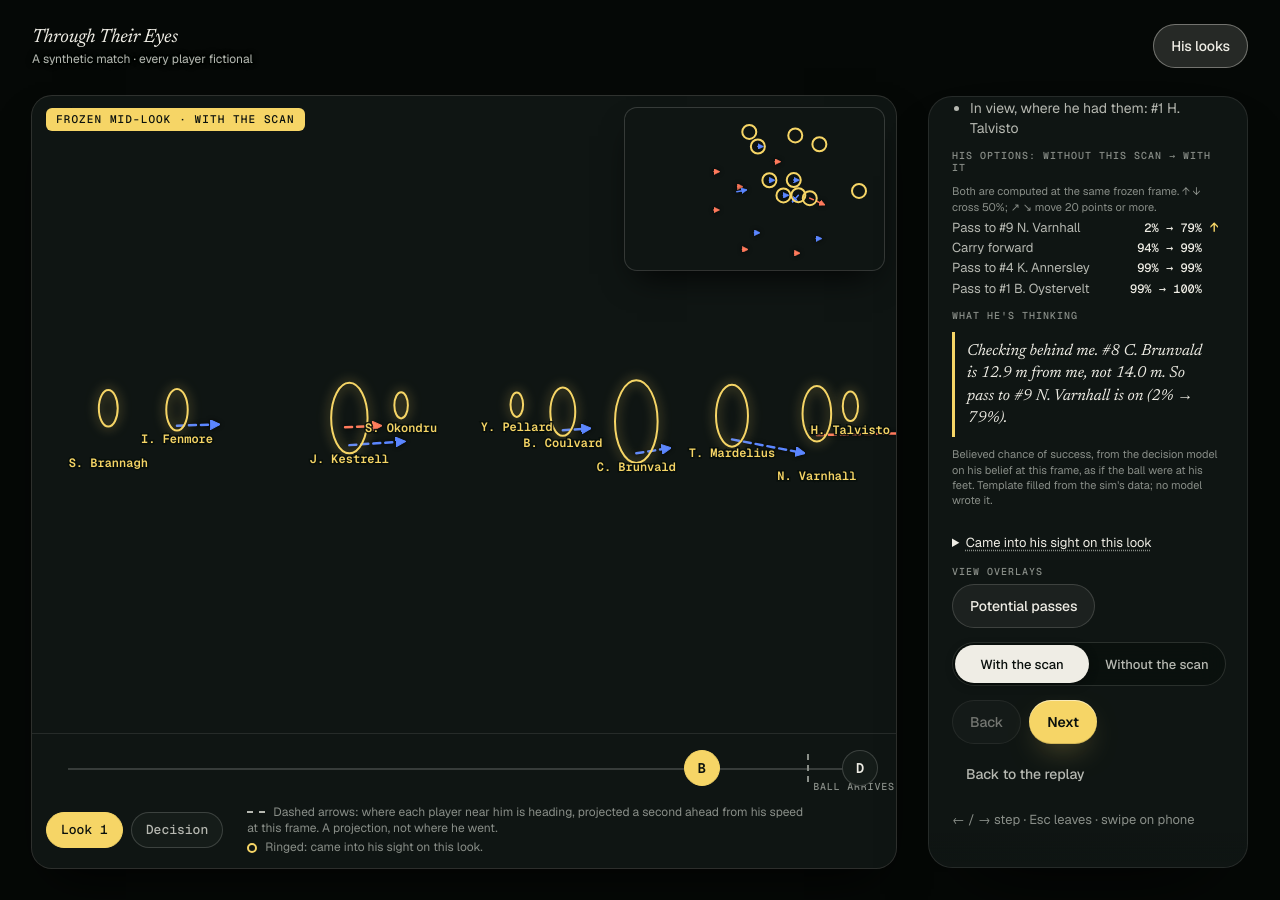
Scenario: His looks: the coaching story › marks the dropped look with a dash in the run without it
This screenshot has width=1280, height=900.
(page scrolled)
Click the button "Without the scan" at (1156, 664), box left=1089, top=645, right=1223, bottom=683
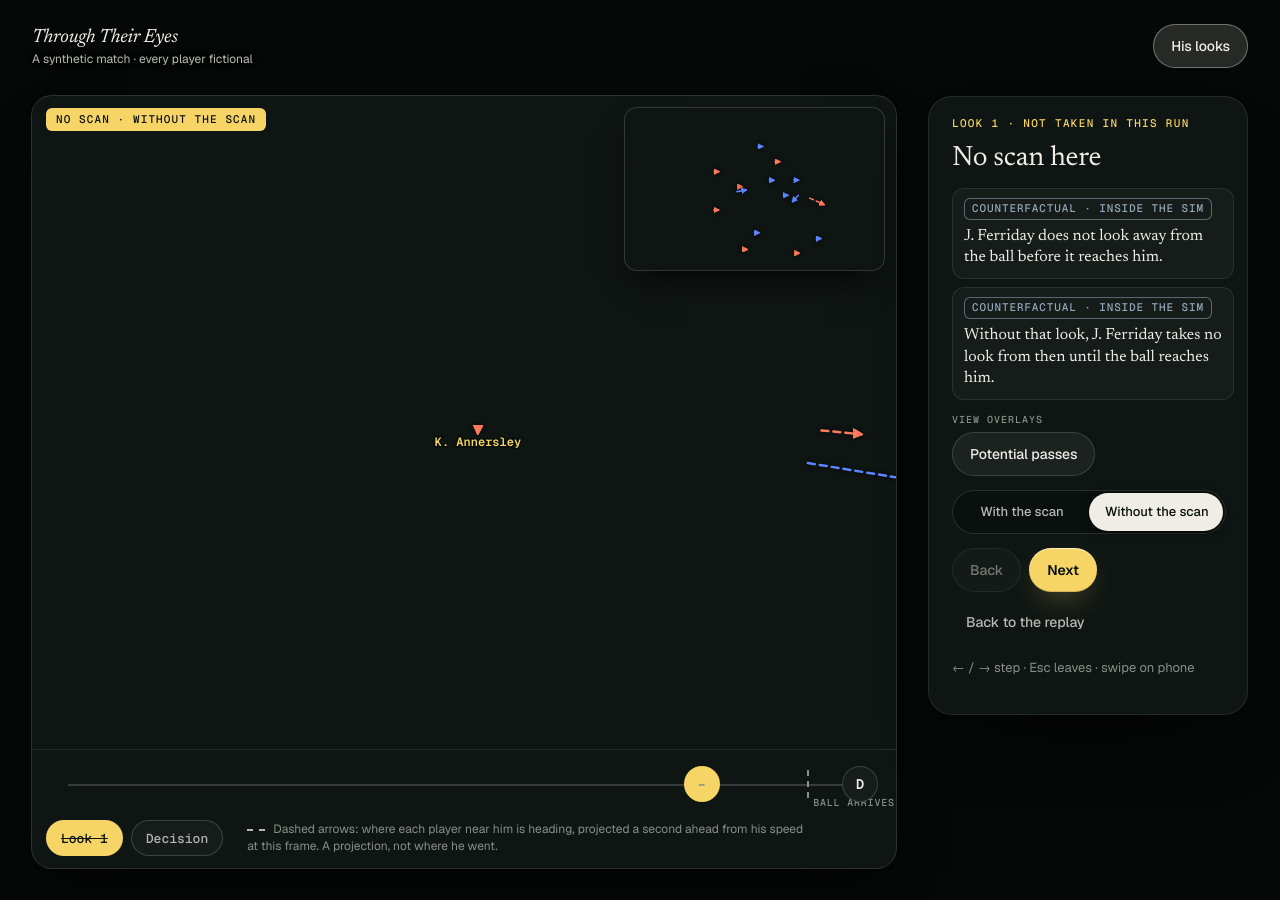
Now the text with class "ss-think" is gone
Click the button "Next" at (1063, 570), box left=1029, top=548, right=1097, bottom=592
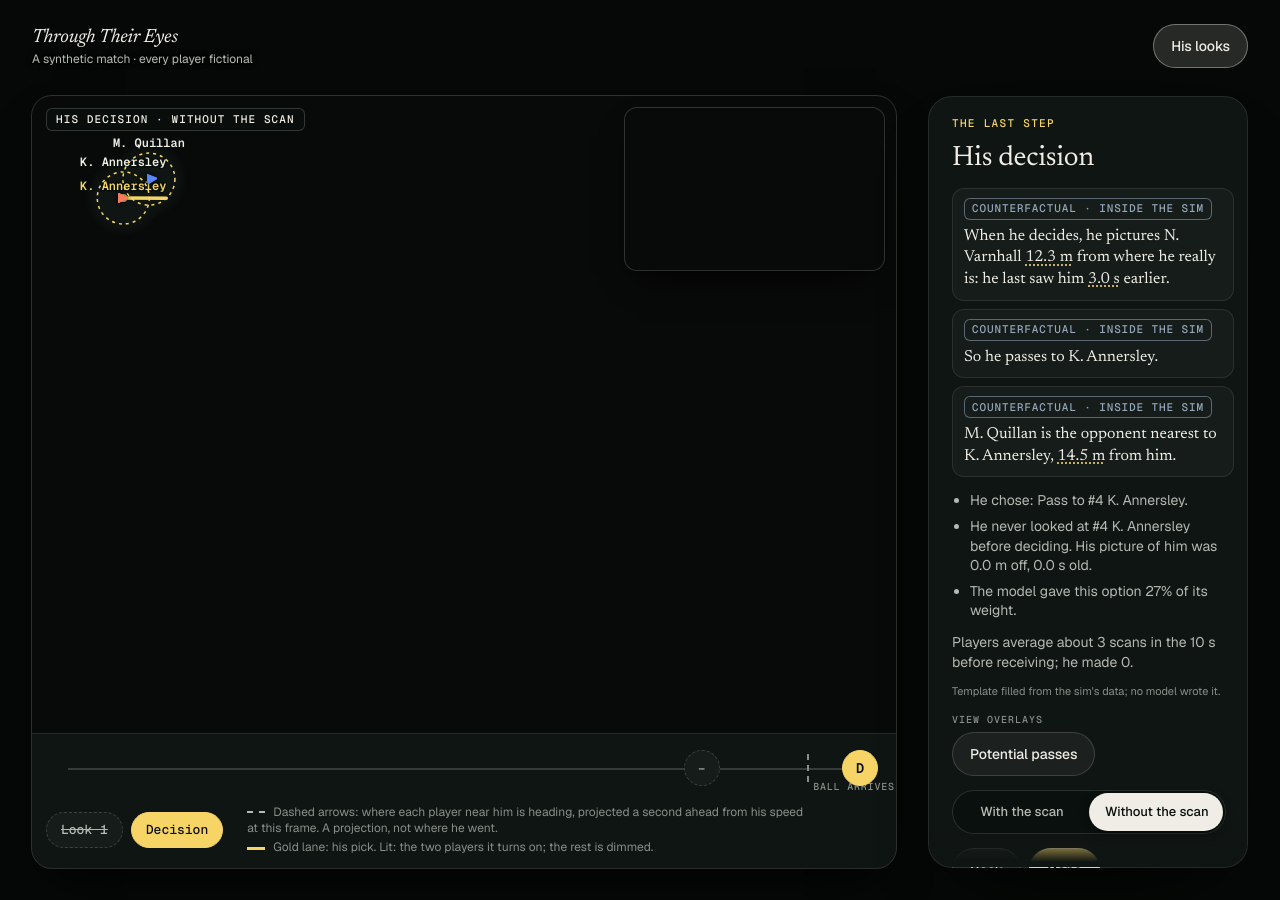
Now the element with class "ss-story" shows "he made 0.", box left=952, top=633, right=1215, bottom=670
